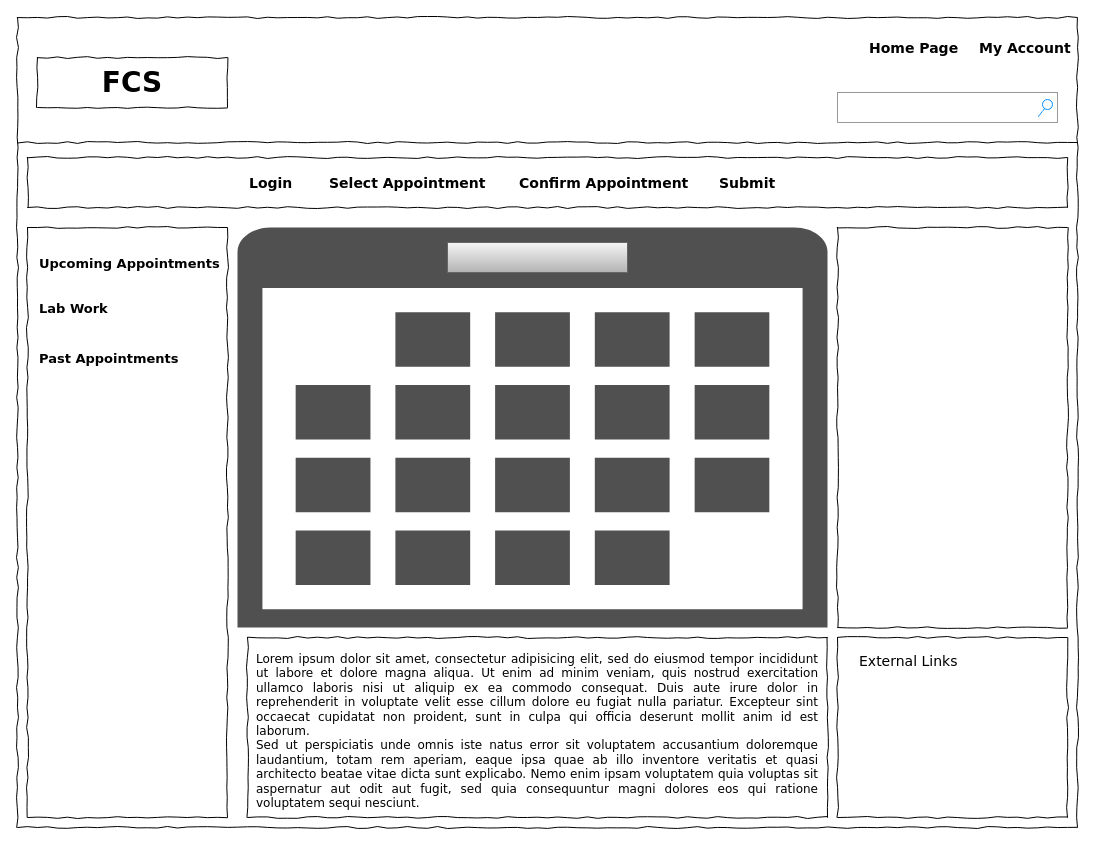
This 1095x845 diagram has some shape labels left out. The centre of each missing label's shape, as x and y in pixels:
"Appointment Calendar" belongs at (537,257).
"Search" belongs at (947,107).
